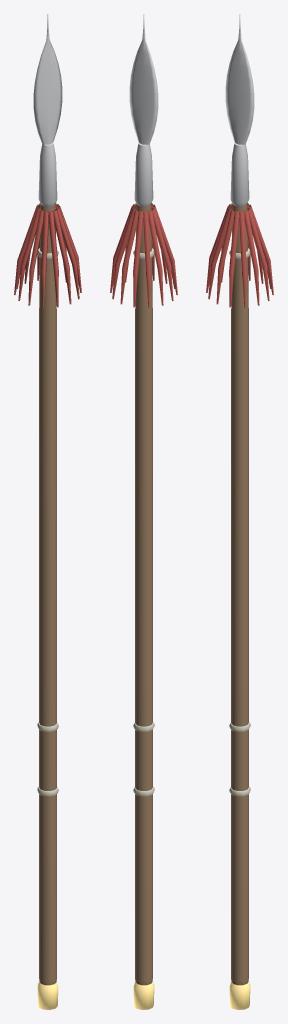
The model's file is spear.glb.
The picture shows the model from 3 angles, left to right: view 1: azimuth 30°, elevation 25°; view 2: azimuth 150°, elevation 25°; view 3: azimuth 330°, elevation 25°; orthographic projection.
Visible parts, largest first — view 1: W-spear; view 2: W-spear; view 3: W-spear.
Boxes of the visible parts, x1,y1,x2,y2 form: W-spear: [14, 14, 81, 1009]; W-spear: [110, 14, 177, 1009]; W-spear: [206, 14, 273, 1009].
Bounding box in the file's own units: 0.144 × 2.31 × 0.1405.
